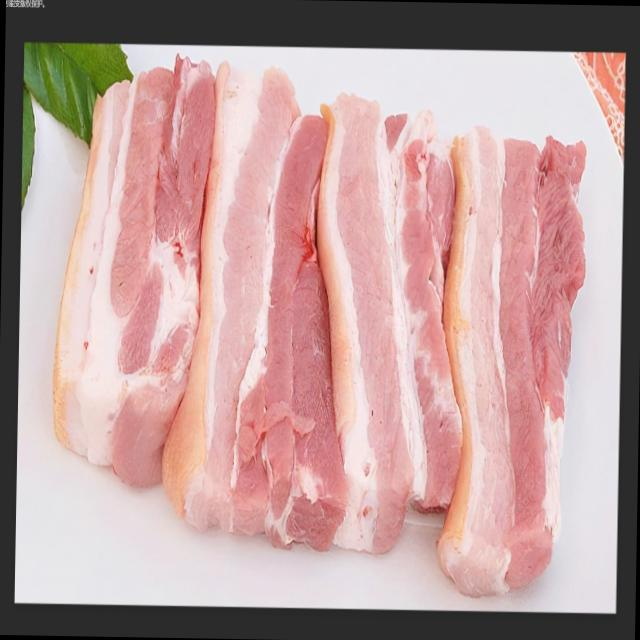--: (197, 52, 363, 588), (303, 75, 473, 549), (444, 110, 596, 613), (57, 62, 213, 494)
